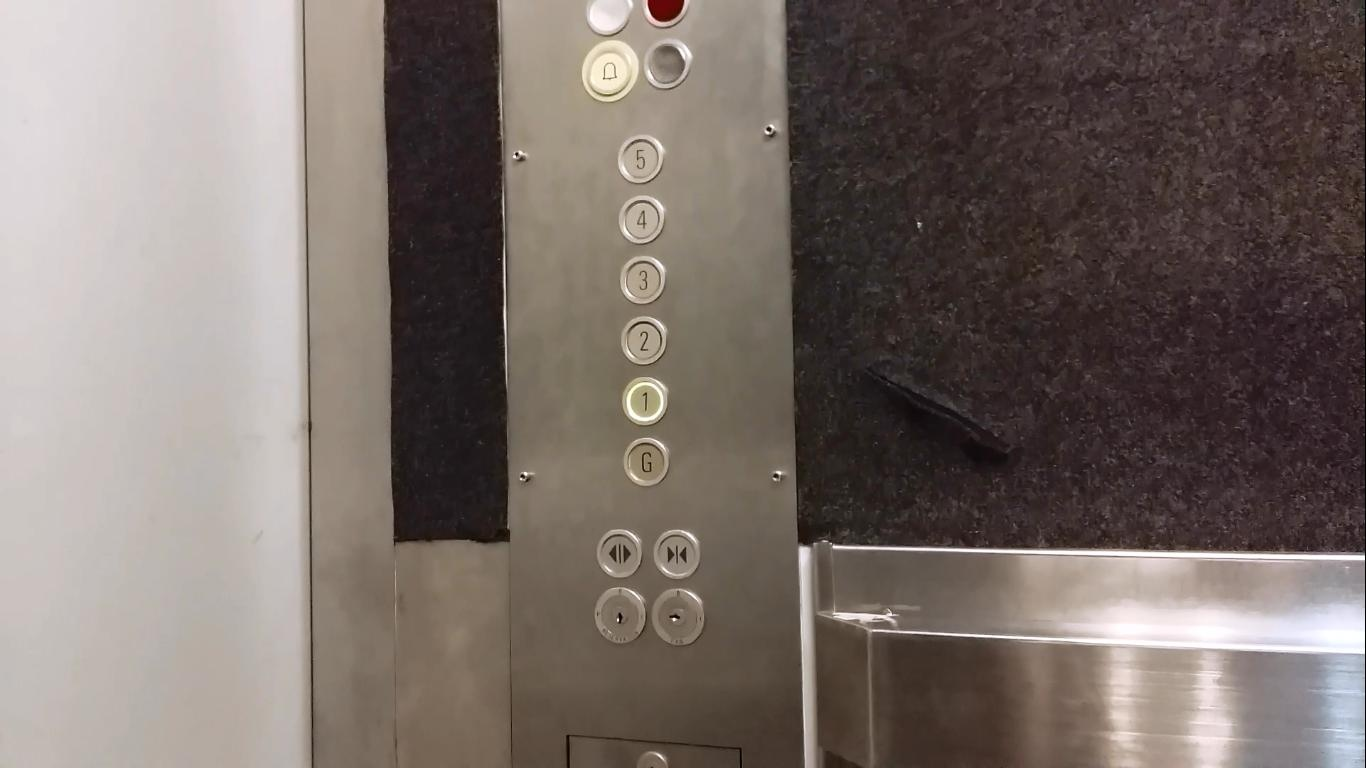1: (620, 376, 669, 422)
2: (620, 315, 667, 365)
3: (619, 255, 668, 307)
4: (617, 196, 666, 242)
5: (616, 132, 664, 184)
G: (622, 435, 673, 487)
alarm: (578, 39, 638, 103)
close: (651, 529, 701, 578)
empty: (643, 39, 691, 90)
keyhole: (650, 585, 706, 644), (591, 585, 646, 644)
open: (593, 526, 643, 578)
